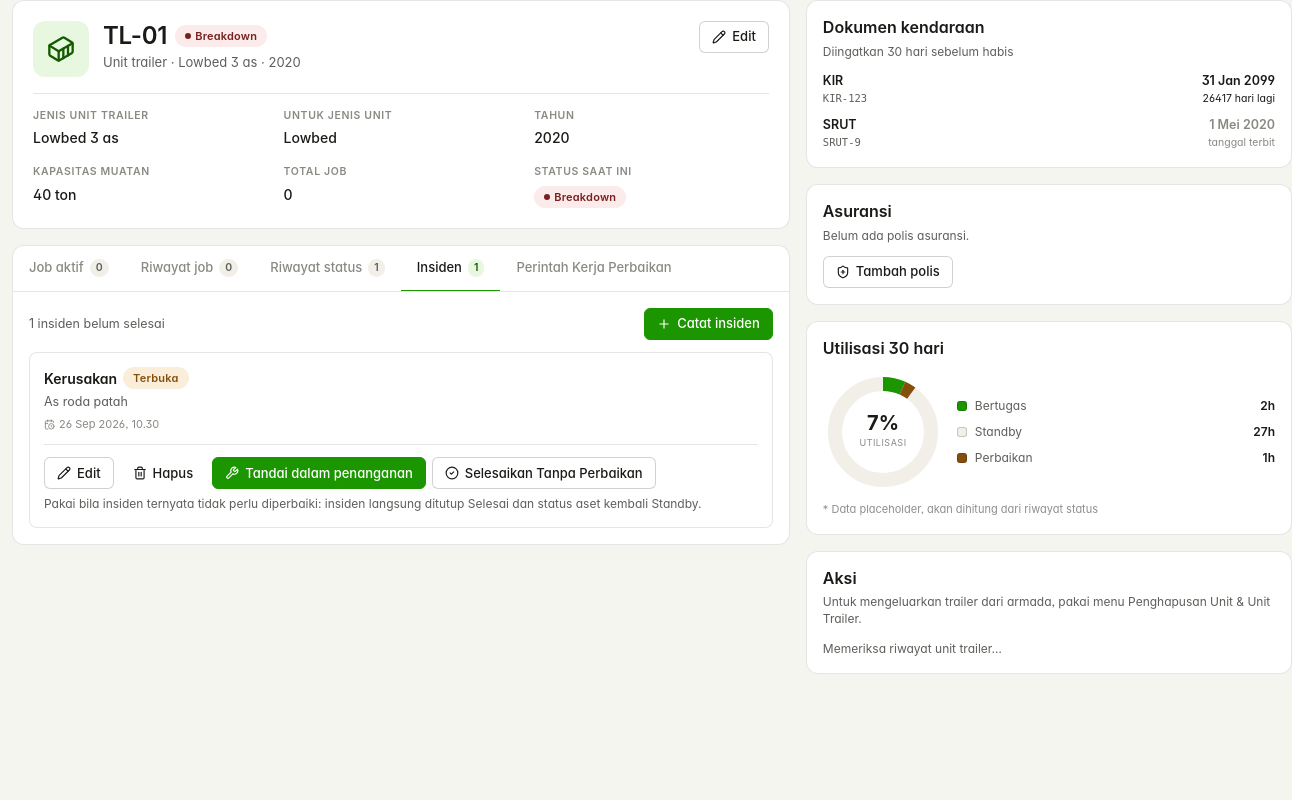
Test: UnitTrailerDetailView › riwayat status tampil seperti di detail unit
This screenshot has width=1292, height=800.
Click the button "Riwayat status 1". click: (328, 269)
box: [254, 246, 401, 292]
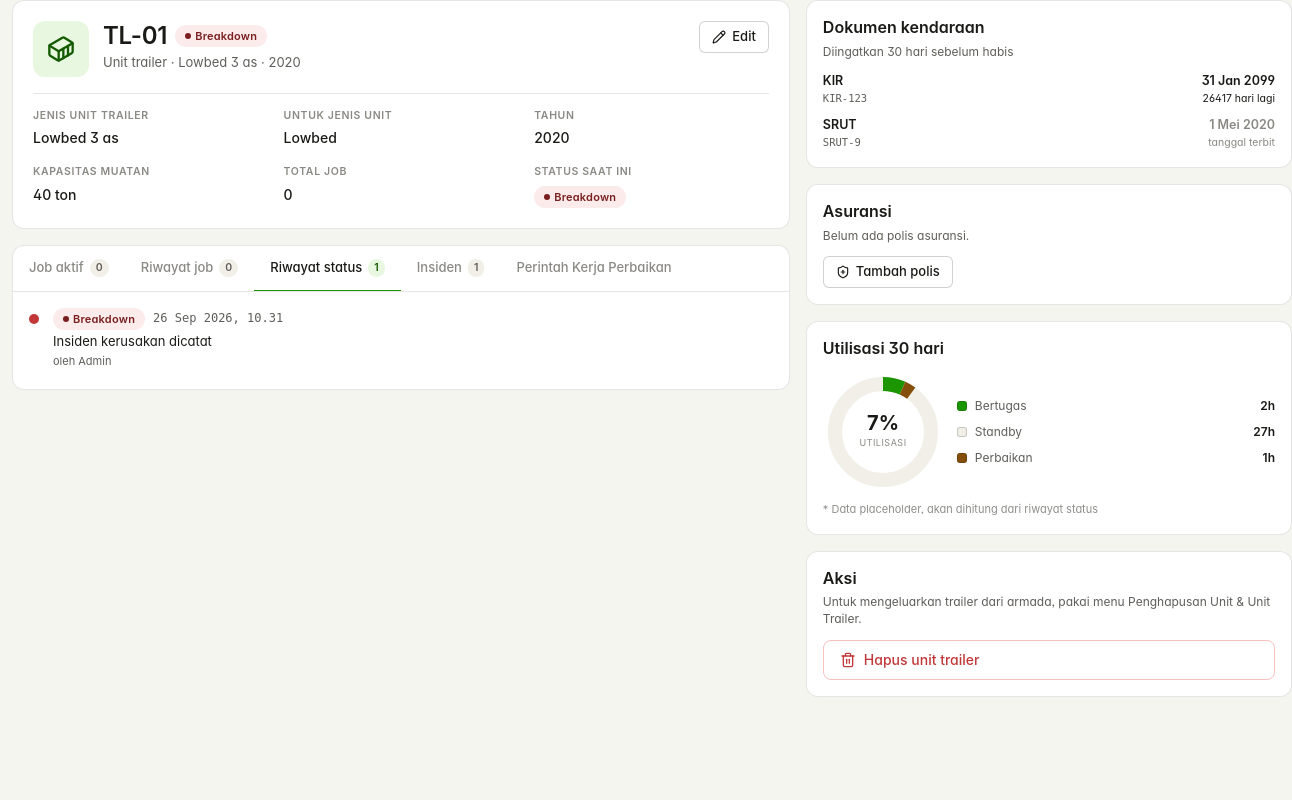
expect the text "Insiden kerusakan dicatat" is shown: met, box [53, 333, 212, 349]
